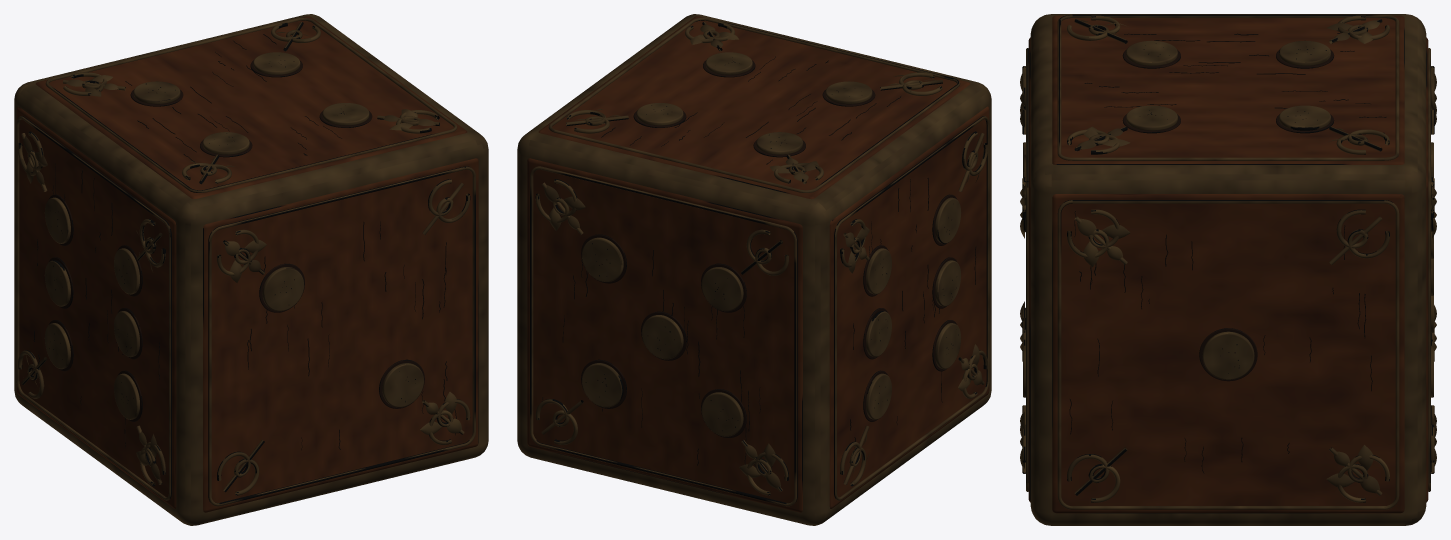
File: medieval_dice_v2.glb
The picture shows the model from 3 angles, left to right: view 1: azimuth 30°, elevation 25°; view 2: azimuth 150°, elevation 25°; view 3: azimuth 270°, elevation 25°; orthographic projection. The views are drawn at different scales.
Visible parts, largest first — view 1: MedievalDiceV2; view 2: MedievalDiceV2; view 3: MedievalDiceV2.
Boxes of the visible parts, <box> form: MedievalDiceV2: <box>14,14,488,525</box>; MedievalDiceV2: <box>517,14,991,525</box>; MedievalDiceV2: <box>1020,14,1436,525</box>.
Size of the model in its own units: 1.05 by 1.05 by 1.05.
Materials: 3 (3 with a texture image).
